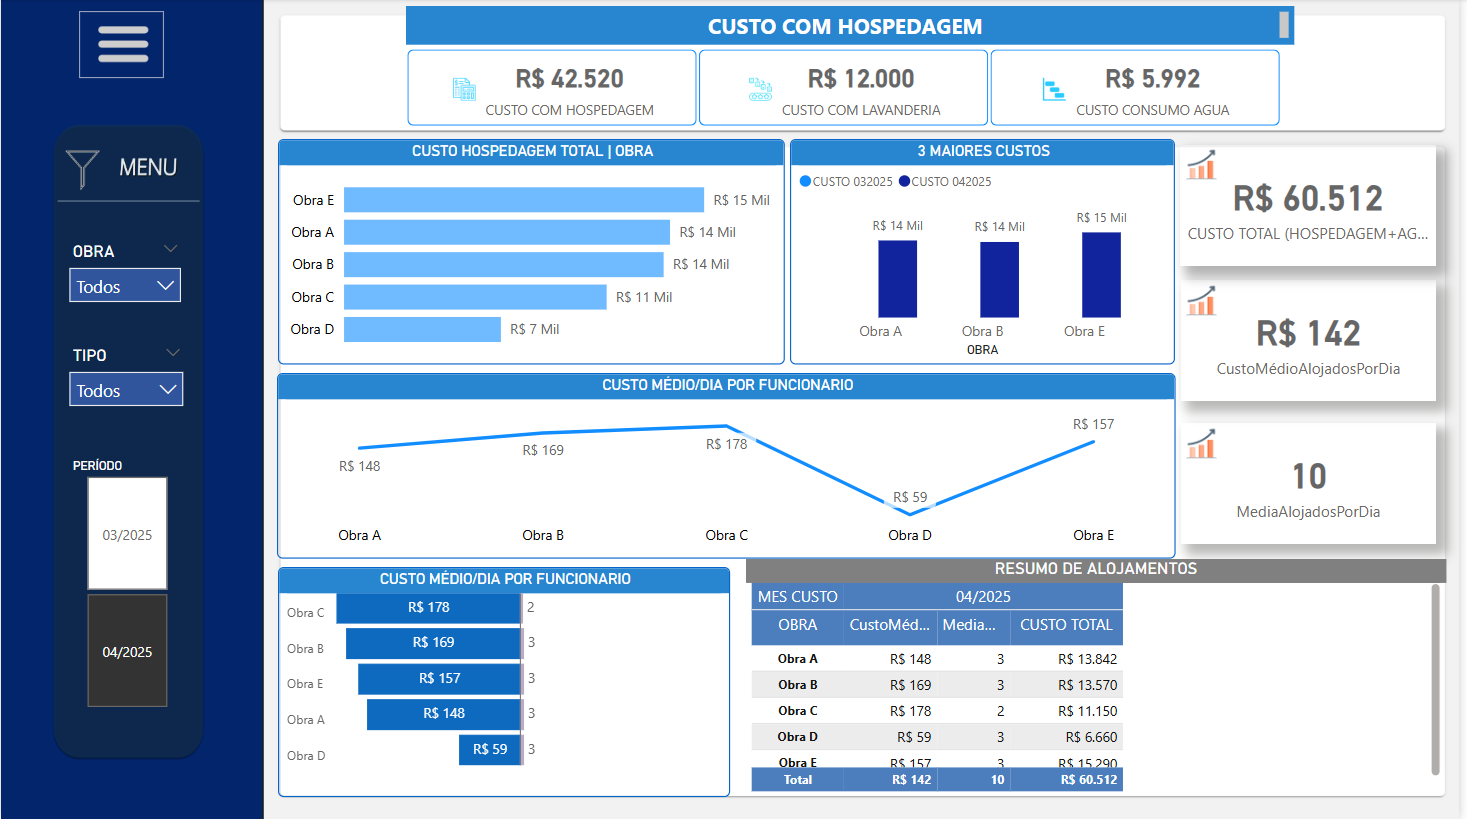

The page's visual inventory and layout, read from the dashboard file:
{"tool":"powerbi","page":{"name":"Consolidada HOSP menu","canvas":[1280,720],"ordinal":1},"visuals":[{"type":"barChart","title":"CUSTO HOSPEDAGEM TOTAL | OBRA","fields":{"Y":["MEDIDAS.CUSTO TOTAL"],"Category":["tb_hipotetica.OBRA"]},"box":[243.2,122.9,445.2,198.4],"z":0},{"type":"card","title":"MÉDIA PESSOAS ALOJADAS/DIA","fields":{"Values":["MEDIDAS MEDIAS.MediaAlojadosPorDia"]},"box":[1036.1,372.3,223.9,106.2],"z":1000},{"type":"clusteredColumnChart","title":"3 MAIORES  CUSTOS","fields":{"Category":["tb_hipotetica.OBRA"],"Y":["MEDIDAS.CUSTO 032025","MEDIDAS.CUSTO 042025"]},"box":[692.8,122.9,338,198.4],"z":2000},{"type":"card","title":"MÉDIA PESSOAS ALOJADAS/DIA","fields":{"Values":["MEDIDAS MEDIAS.CustoMédioAlojadosPorDia"]},"box":[1036.1,246.7,223.9,106.2],"z":3000},{"type":"cardVisual","title":"CUSTO HOSPEDAGEM | TIPO","fields":{"Data":["MEDIDAS.VR HOSPEDAGEM","MEDIDAS.VR LAVANDERIA","MEDIDAS.VR AGUA"]},"box":[346.8,34.2,788.5,87.8],"z":4000},{"type":"textbox","box":[355.6,6.1,779.7,34.2],"z":5000},{"type":"card","title":"MÉDIA PESSOAS ALOJADAS/DIA","fields":{"Values":["MEDIDAS.CUSTO TOTAL"]},"box":[1035.2,128.2,224.8,106.2],"z":6000},{"type":"pivotTable","title":"RESUMO DE ALOJAMENTOS","fields":{"Columns":["CALENDARIO.MES CUSTO"],"Rows":["tb_hipotetica.OBRA"],"Values":["MEDIDAS MEDIAS.CustoMédioAlojadosPorDia","MEDIDAS MEDIAS.MediaAlojadosPorDia","MEDIDAS.CUSTO TOTAL"]},"box":[654.1,491.7,614.6,209],"z":7000},{"type":"lineStackedColumnComboChart","title":"CUSTO MÉDIO/DIA POR FUNCIONARIO","fields":{"Category":["tb_hipotetica.OBRA","CALENDARIO.MES CUSTO"],"Y2":["MEDIDAS MEDIAS.CustoMédioAlojadosPorDia"]},"box":[242.3,328.4,789.4,163.3],"z":8000},{"type":"image","title":"EXIBI","box":[69.7,9.8,75.6,59.9],"z":9000},{"type":"image","title":"MENU","box":[22.8,103.6,178.2,570.7],"z":10000},{"type":"slicer","title":"TOTAL FUNCIONARIOS | OBRA","fields":{"Values":["tb_hipotetica.OBRA"]},"box":[50,208.1,117.7,77.3],"z":11000},{"type":"slicer","title":"TOTAL FUNCIONARIOS | OBRA","fields":{"Values":["CALENDARIO.MES CUSTO"]},"box":[50.3,398.7,119.8,230.4],"z":12000},{"type":"slicer","title":"TOTAL FUNCIONARIOS | OBRA","fields":{"Values":["tb_hipotetica.TIPO"]},"box":[50.3,299.5,119.8,77.6],"z":13000},{"type":"actionButton","box":[96.6,128.2,59.7,40.4],"z":14000},{"type":"actionButton","box":[57.1,128.2,36,40.4],"z":15000},{"type":"actionButton","box":[68.8,10.8,74.7,58.9],"z":16000},{"type":"image","box":[1036.4,127.7,36.3,36.3],"z":17000},{"type":"image","box":[1036.4,246.6,36.3,36.3],"z":18000},{"type":"image","box":[1036.4,372.3,36.3,36.3],"z":19000},{"type":"TornadoChart1452517688218","title":"CUSTO MÉDIO/DIA POR FUNCIONARIO","fields":{"Category":["tb_hipotetica.OBRA"],"Values":["MEDIDAS MEDIAS.CustoMédioAlojadosPorDia","MEDIDAS MEDIAS.MediaAlojadosPorDia"]},"box":[243.2,498.7,396.9,202],"z":20000}]}

Visuals, with their boxes in screenshot pixels (x1, y1, x2, y2), scaled from the page's 1280x720 canvas onto the 1467x819 screenshot:
"CUSTO HOSPEDAGEM TOTAL | OBRA" barChart: x1=279 y1=140 x2=789 y2=365
"MÉDIA PESSOAS ALOJADAS/DIA" card: x1=1187 y1=423 x2=1444 y2=544
"3 MAIORES  CUSTOS" clusteredColumnChart: x1=794 y1=140 x2=1181 y2=365
"MÉDIA PESSOAS ALOJADAS/DIA" card: x1=1187 y1=281 x2=1444 y2=401
"CUSTO HOSPEDAGEM | TIPO" cardVisual: x1=397 y1=39 x2=1301 y2=139
textbox: x1=408 y1=7 x2=1301 y2=46
"MÉDIA PESSOAS ALOJADAS/DIA" card: x1=1186 y1=146 x2=1444 y2=267
"RESUMO DE ALOJAMENTOS" pivotTable: x1=750 y1=559 x2=1454 y2=797
"CUSTO MÉDIO/DIA POR FUNCIONARIO" lineStackedColumnComboChart: x1=278 y1=374 x2=1182 y2=559
"EXIBI" image: x1=80 y1=11 x2=167 y2=79
"MENU" image: x1=26 y1=118 x2=230 y2=767
"TOTAL FUNCIONARIOS | OBRA" slicer: x1=57 y1=237 x2=192 y2=325
"TOTAL FUNCIONARIOS | OBRA" slicer: x1=58 y1=454 x2=195 y2=716
"TOTAL FUNCIONARIOS | OBRA" slicer: x1=58 y1=341 x2=195 y2=429
actionButton: x1=111 y1=146 x2=179 y2=192
actionButton: x1=65 y1=146 x2=107 y2=192
actionButton: x1=79 y1=12 x2=164 y2=79
image: x1=1188 y1=145 x2=1229 y2=187
image: x1=1188 y1=281 x2=1229 y2=322
image: x1=1188 y1=423 x2=1229 y2=465
"CUSTO MÉDIO/DIA POR FUNCIONARIO" TornadoChart1452517688218: x1=279 y1=567 x2=734 y2=797
